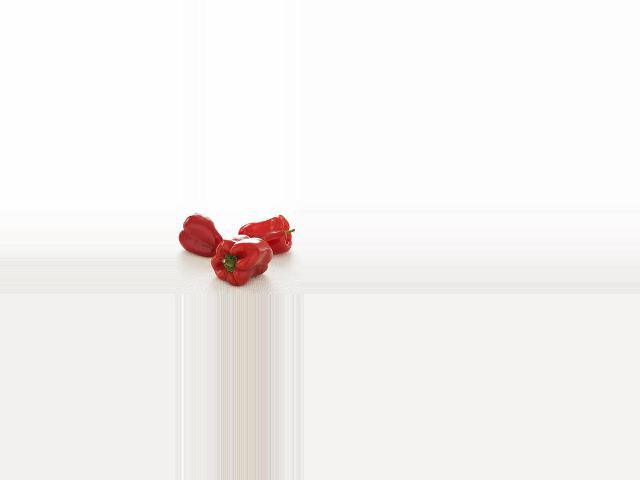bell_pepper: (176, 213, 220, 259)
